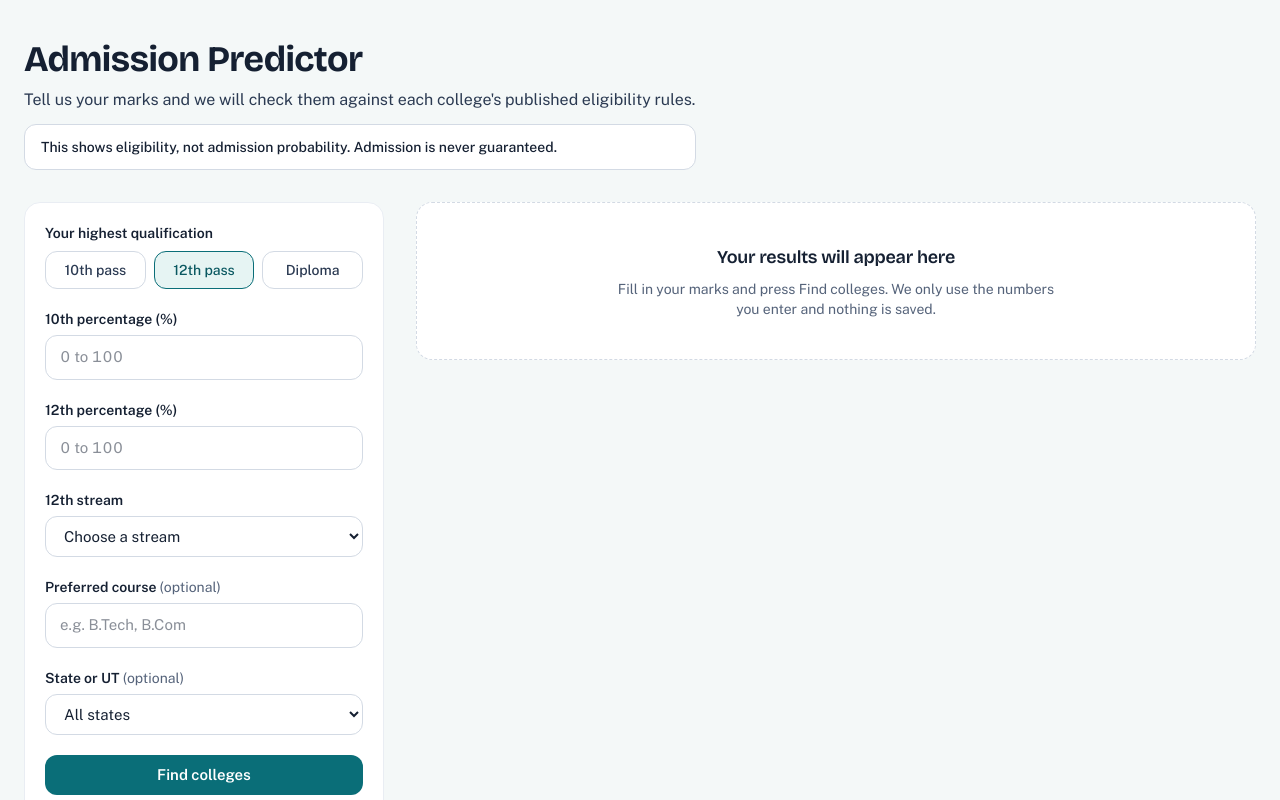
Predictor › sends only the relevant fields and shows the result card
The width and height of the screenshot is (1280, 800).
Click the radio button labelled "10th pass": [95, 270] box [45,251,146,289]
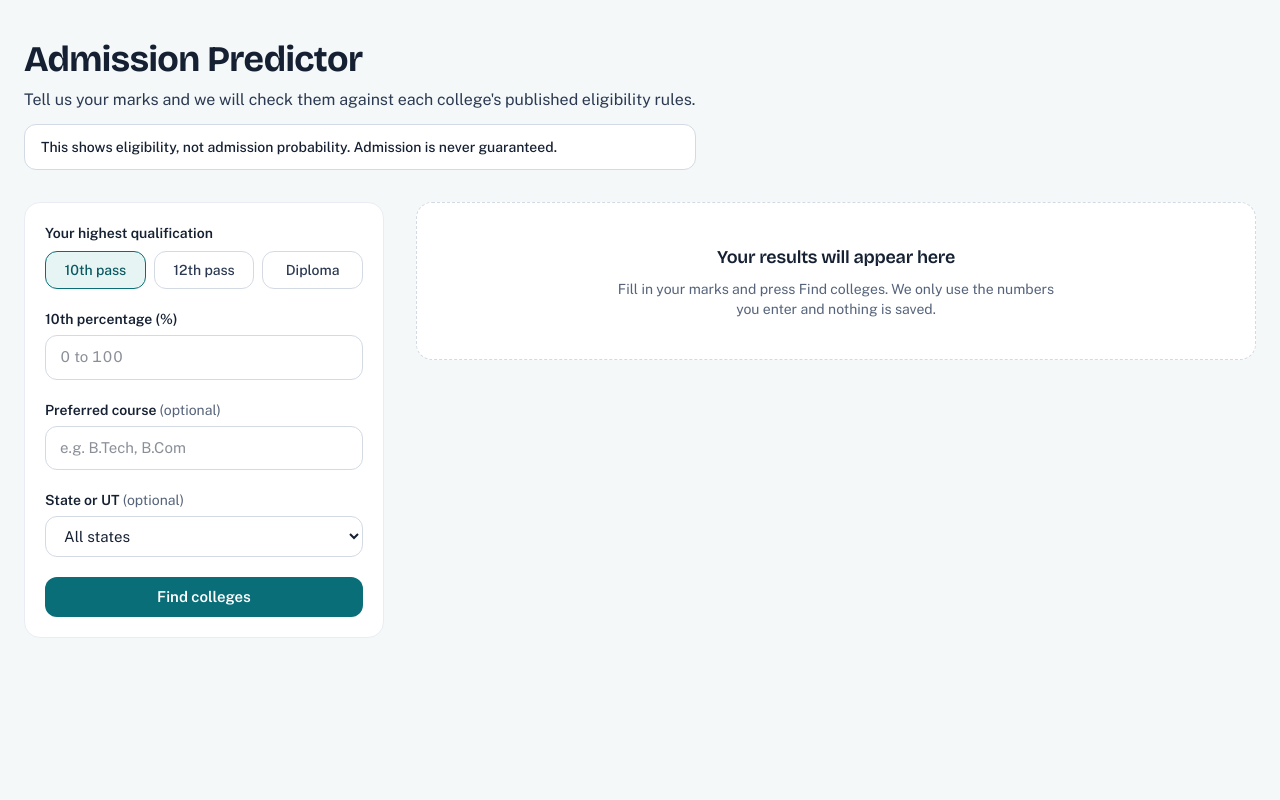
In the number field labelled "10th percentage (%)": [204, 357] box [45,335,363,380], type "75"
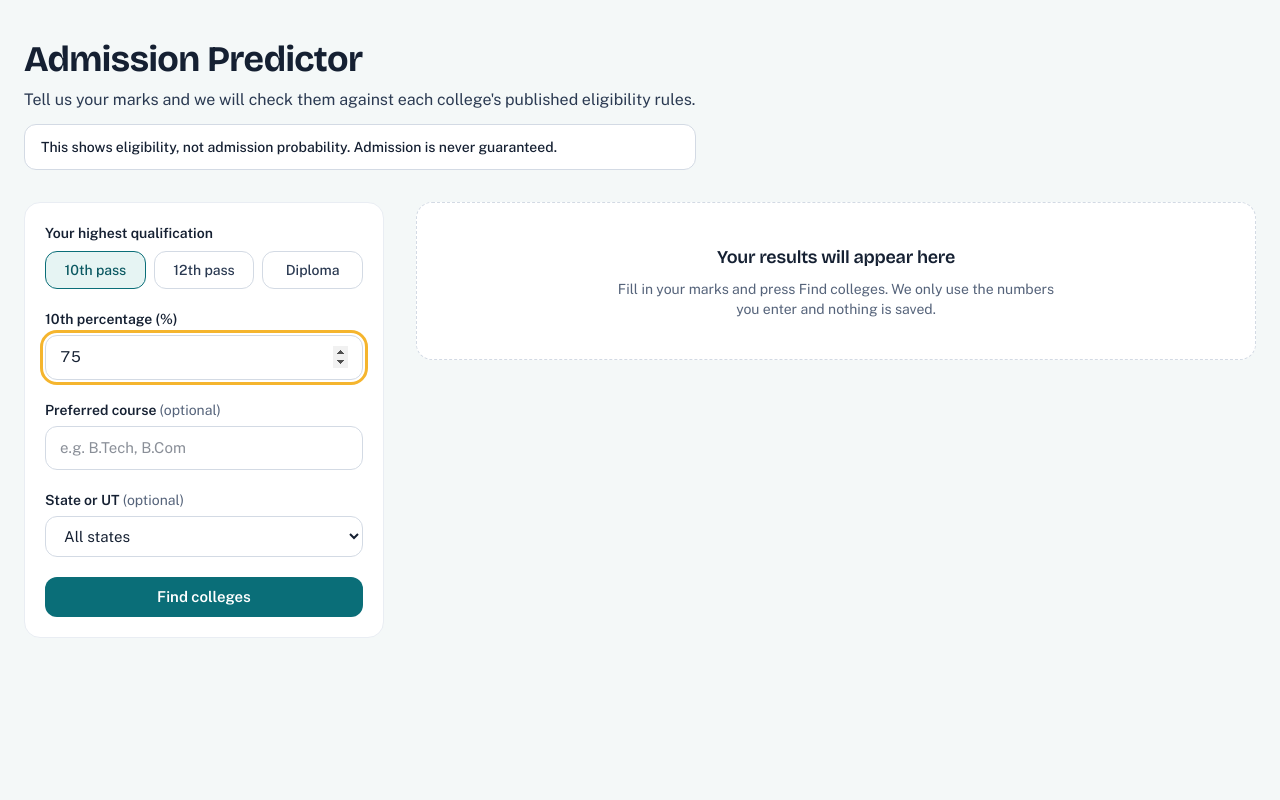
Click the button "Find colleges": [204, 597] box [45,577,363,617]
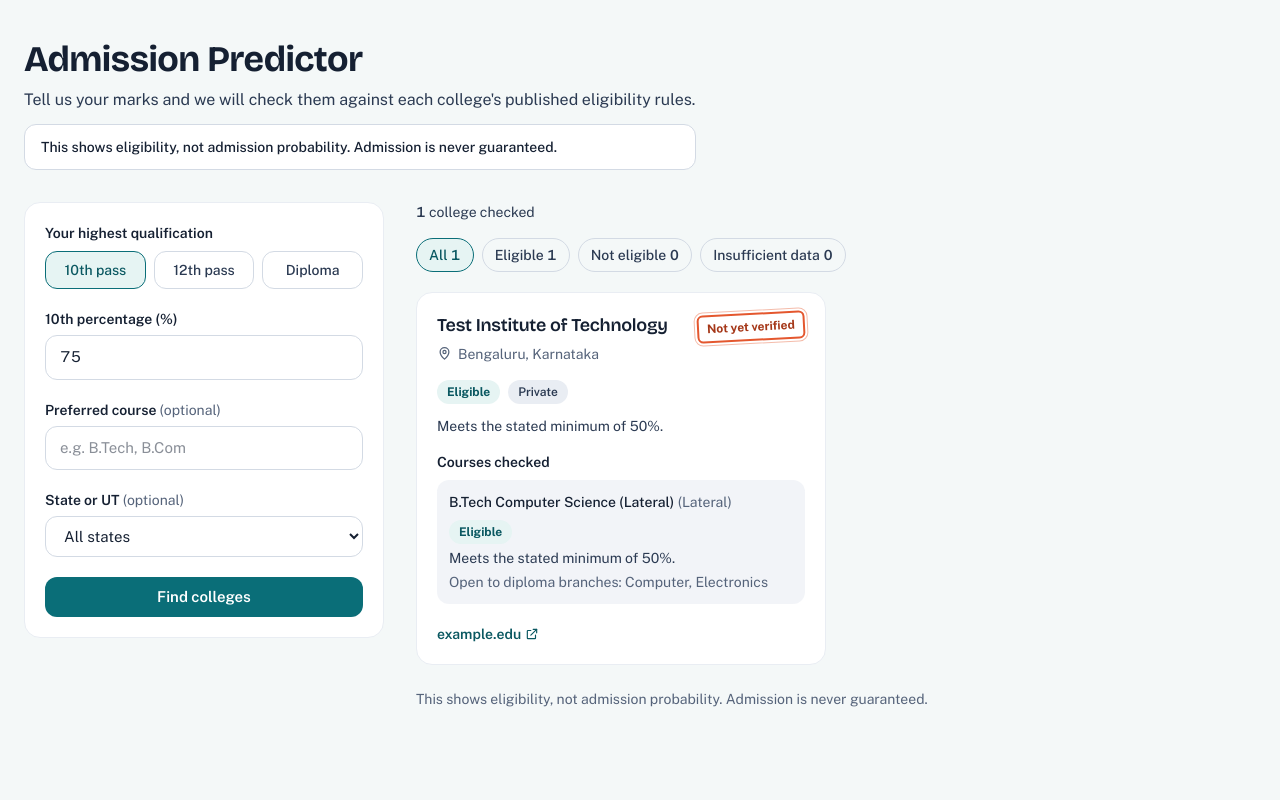
Result: the link "Test Institute of Technology" is shown at [437,314,668,336]
Result: the button "Eligible 1" is shown at [482,238,570,272]
